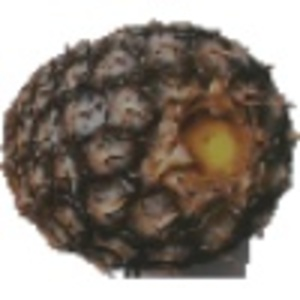abacaxi: (1, 15, 300, 269)
